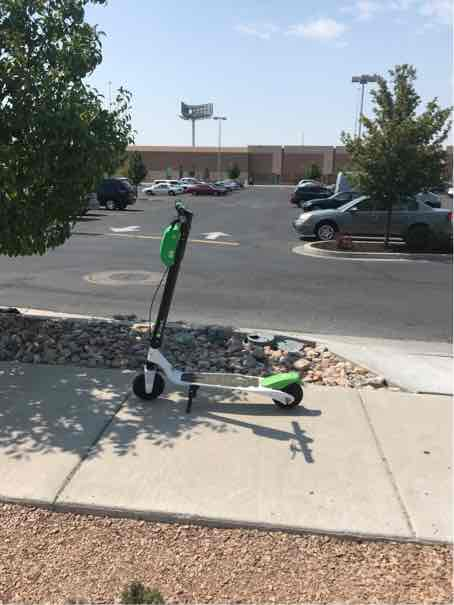scooter: (124, 181, 312, 429)
